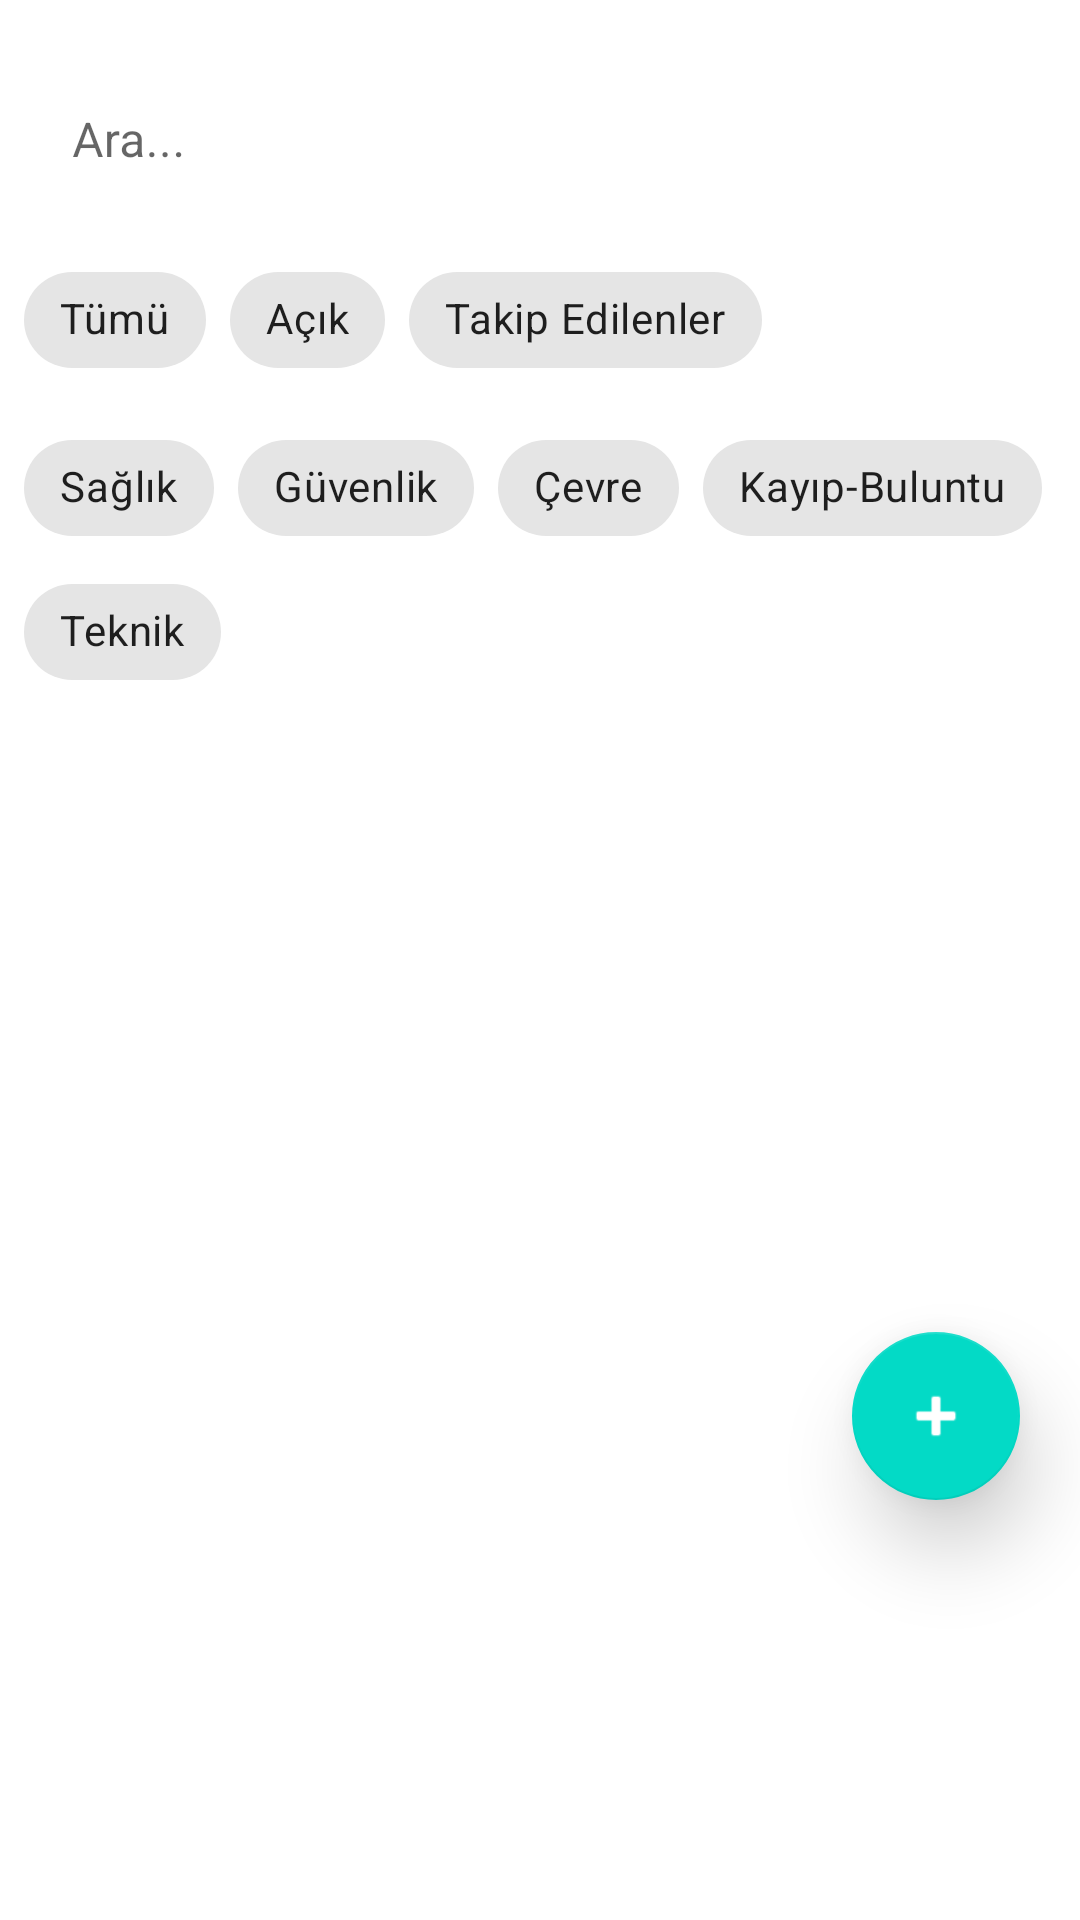

Where to tap for icons on this 1080 x 1920 app screen, as point (x, y):
Yeni Bildirim: point (936, 1416)
